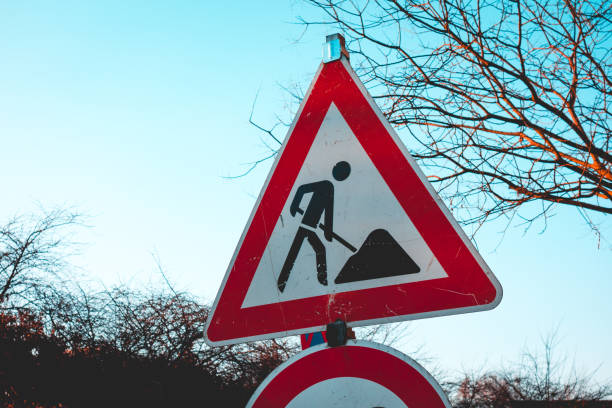yol_calismasi_levha: (205, 46, 501, 347)
